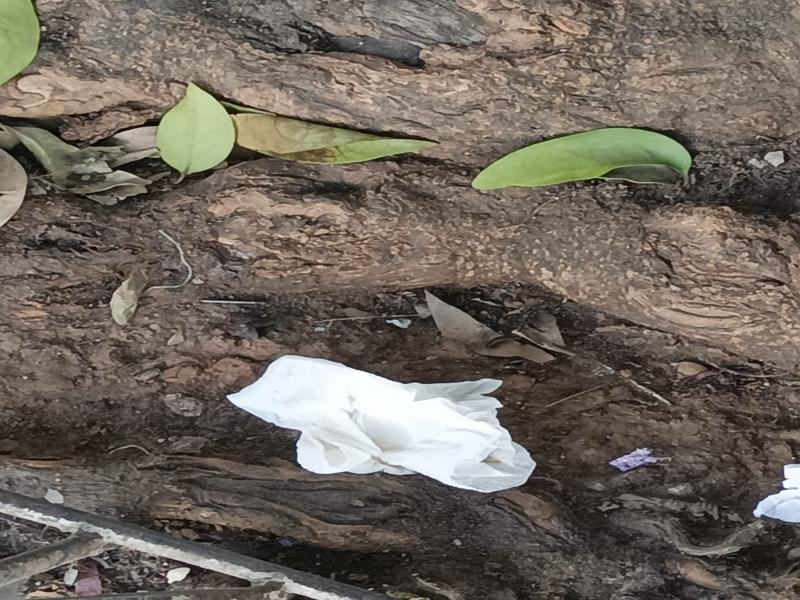papel: (225, 356, 536, 496)
